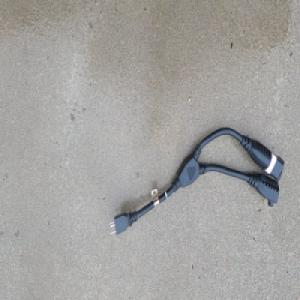Wire: (108, 125, 284, 237)
